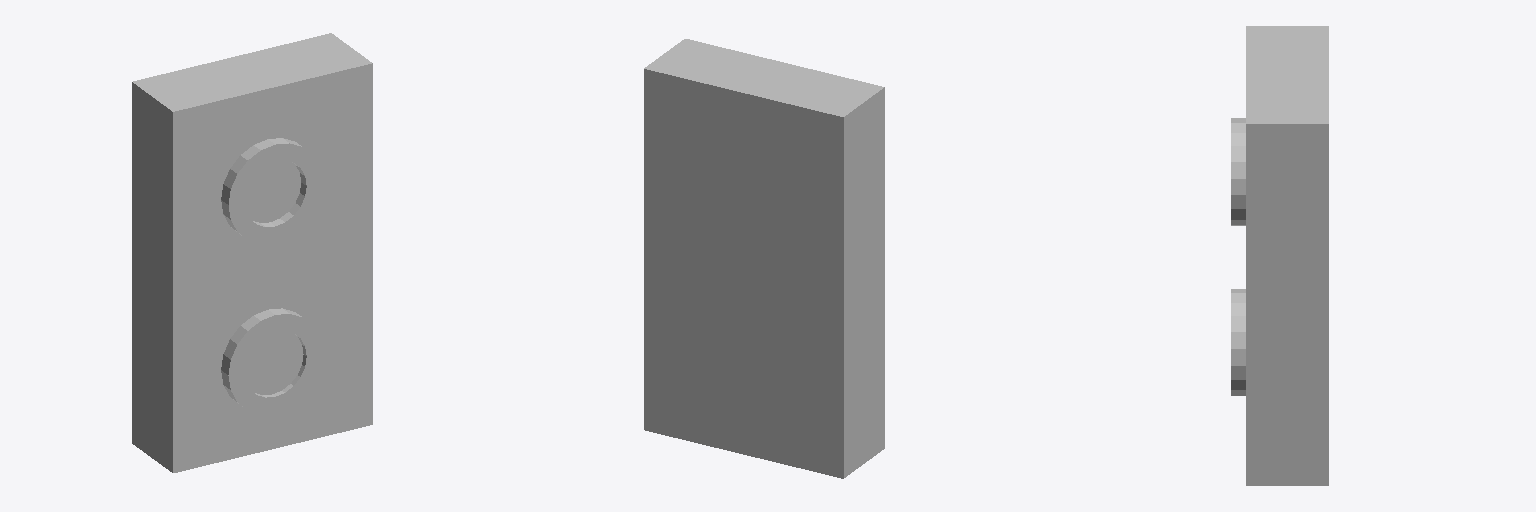
The model's file is RecRoomSpeakers.obj.
3 views of the same model, side by side, from view 1: azimuth 30°, elevation 25°; view 2: azimuth 150°, elevation 25°; view 3: azimuth 270°, elevation 25° (orthographic).
Parts seen in each view (by area): view 1: pasted__pCube12 group7; view 2: pasted__pCube12 group7; view 3: pasted__pCube12 group7.
Part boxes in pixels (bbox=[...]): pasted__pCube12 group7: bbox=[132, 33, 372, 472]; pasted__pCube12 group7: bbox=[644, 39, 884, 478]; pasted__pCube12 group7: bbox=[1231, 26, 1328, 485].
Size of the model in its own units: 1 by 1.73 by 0.4225.